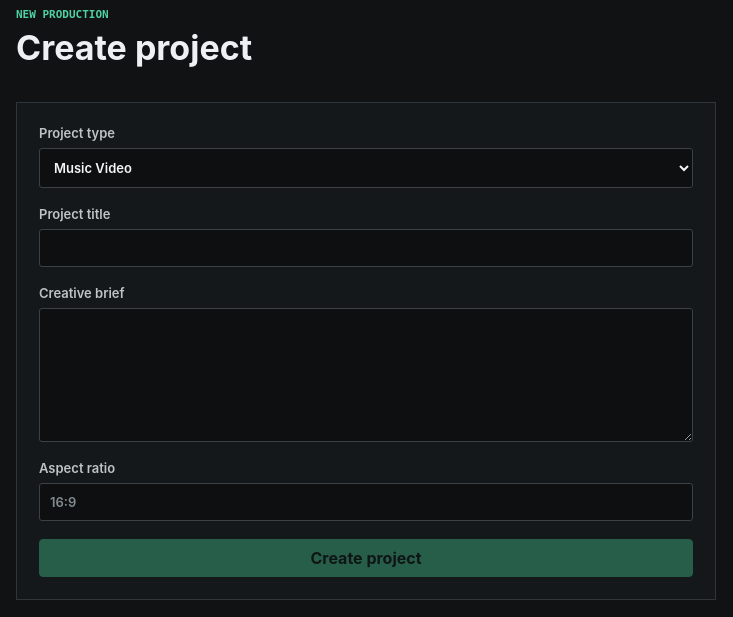
Scenario: producer UI › validates project creation
The width and height of the screenshot is (733, 617).
Expected: the button "Create project" is disabled, [39,539,693,577]
Step 1. Type "Campaign" into the field labelled "Project title" → (366, 248), box [39,229,693,267]
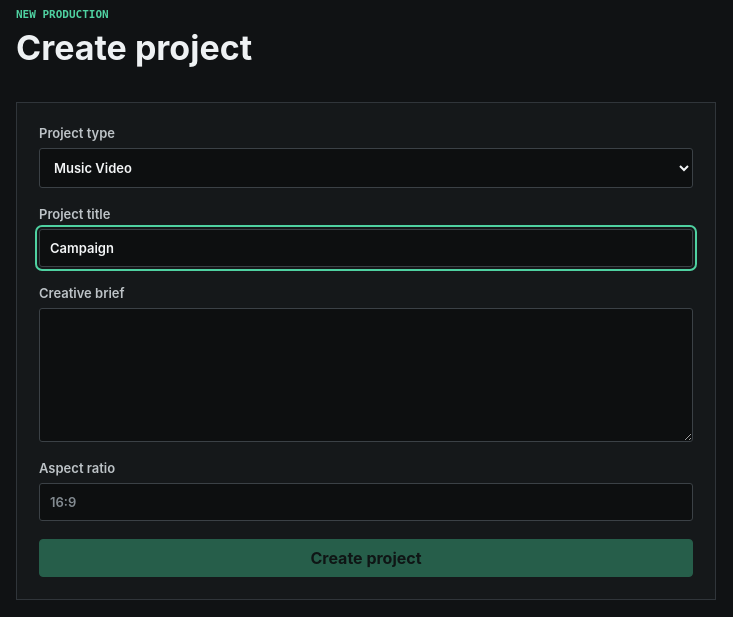
Step 2. Type "short" into the text box labelled "Creative brief" → (366, 375), box [39,308,693,442]
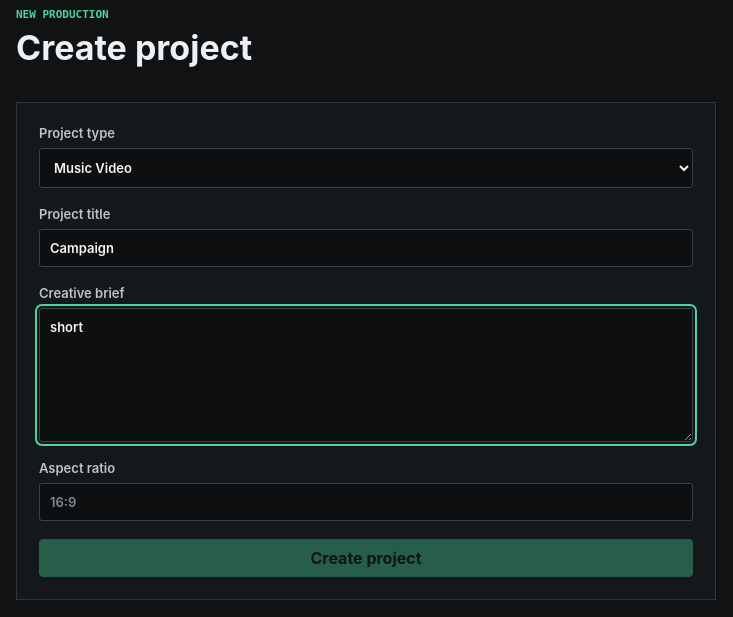
Expected: the button "Create project" is disabled, [39,539,693,577]
Step 3. Type " but sufficient" into the text box labelled "Creative brief" → (366, 375), box [39,308,693,442]
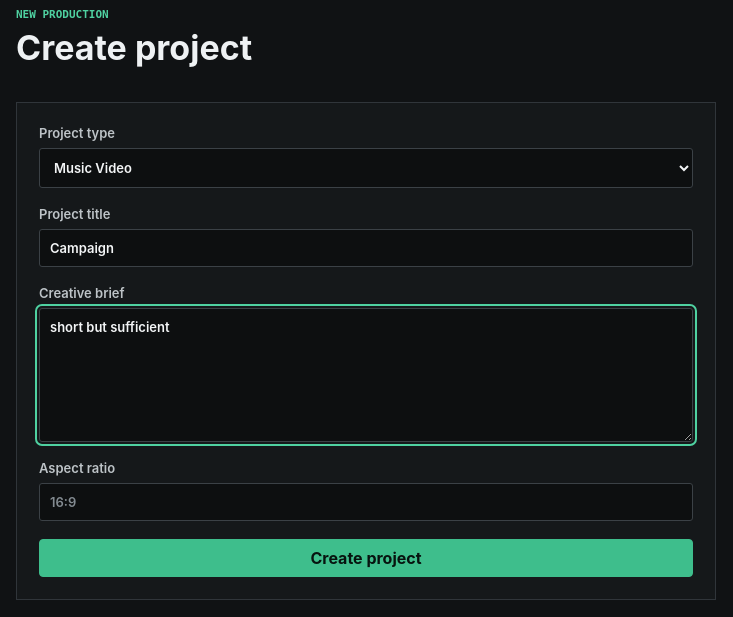
Result: the button "Create project" is enabled at [39,539,693,577]
